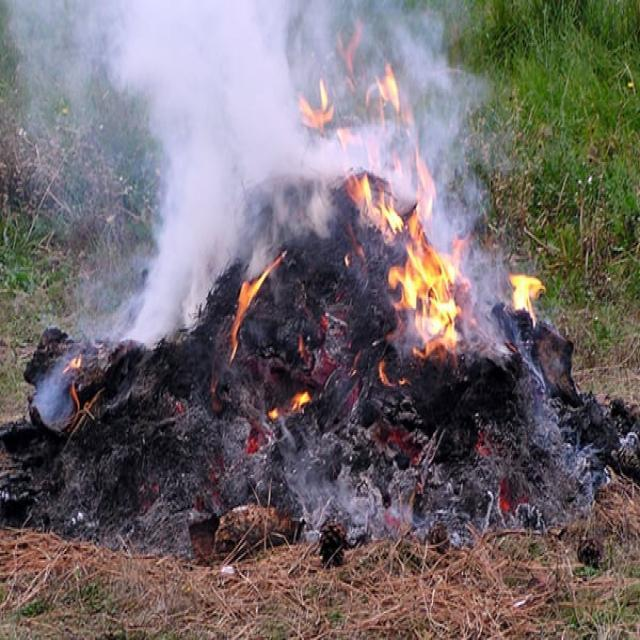Fire: (341, 127, 486, 360)
Smoke: (9, 6, 450, 338)
